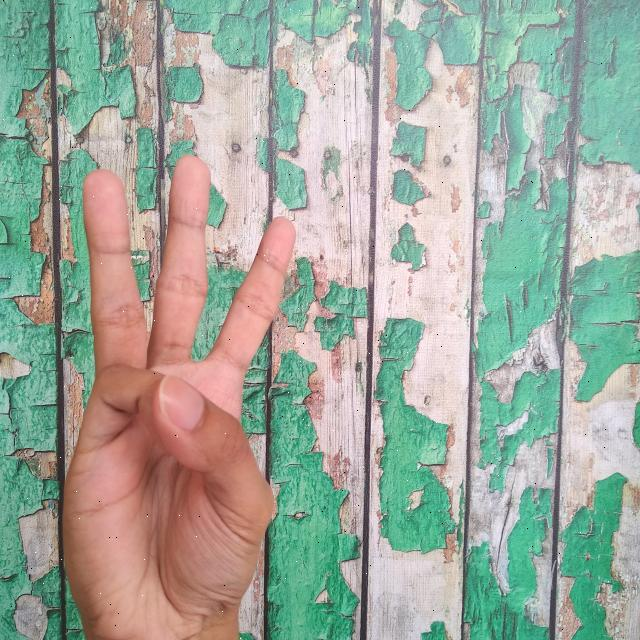W: (53, 146, 315, 640)
